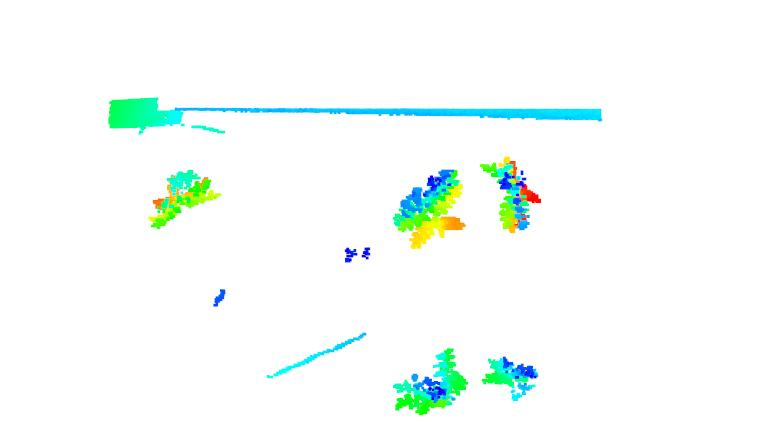chickpea: (388, 167, 467, 250), (393, 347, 471, 417), (144, 169, 227, 233), (480, 156, 546, 236), (480, 355, 539, 400)
